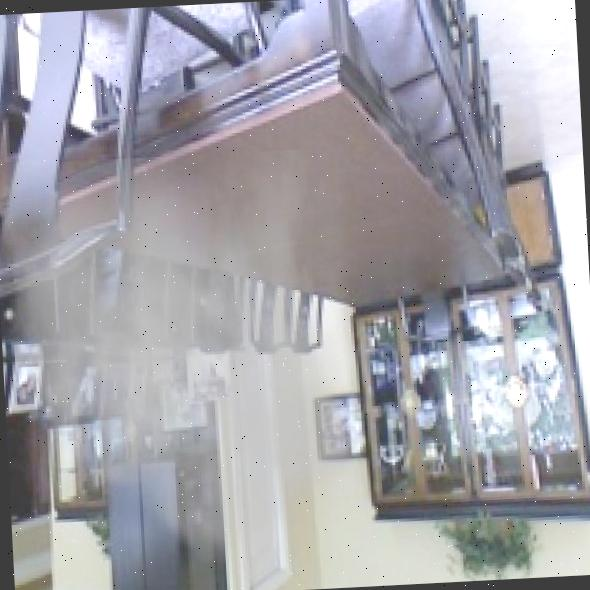smoke: (0, 147, 363, 588)
